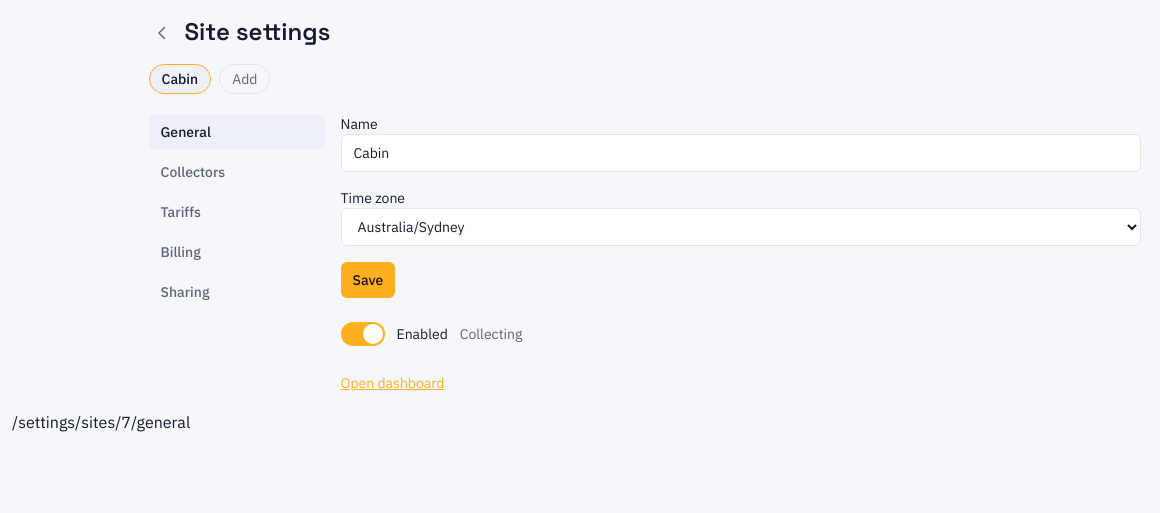
Test: SettingsPage › keeps the tabs and typed changes when a background refetch fails
Replace the text in the field labelled "Name" with "Cabin two" at (740, 153), box [340,134,1140,172]
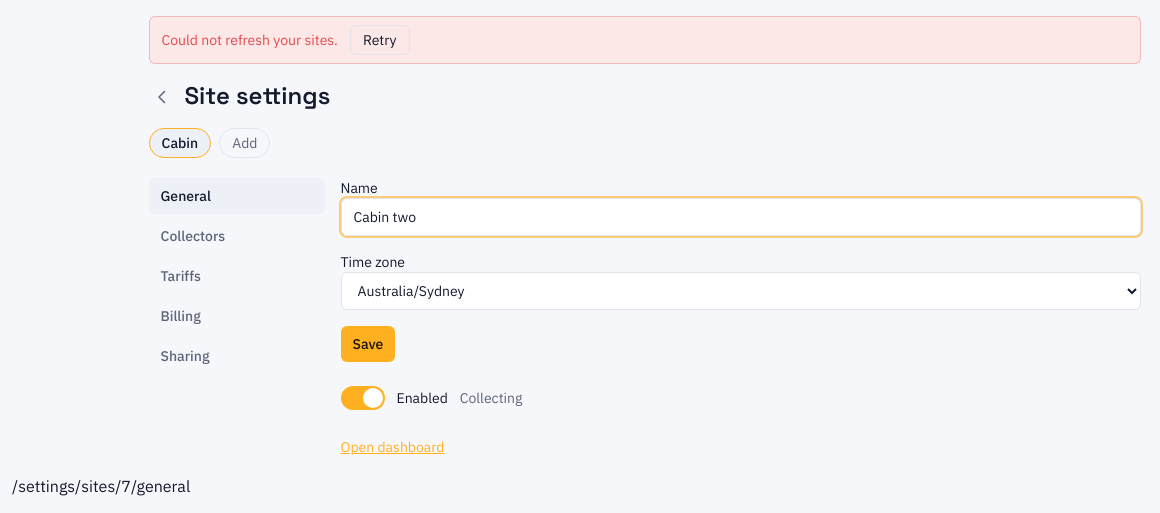
Expected: the navigation bar named "Site settings" is shown, [148,178,324,458]
Now the text "Could not refresh your sites." is shown, box [162,30,338,50]
Click the button "Retry".
click(380, 40)  # box [350,25,410,55]
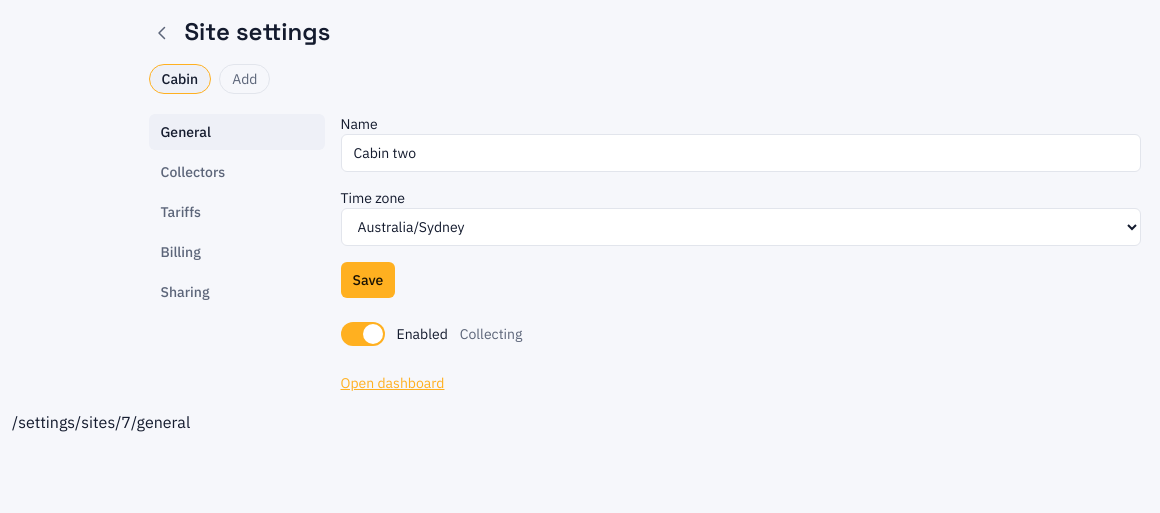
Now the text "Could not refresh your sites." is gone
